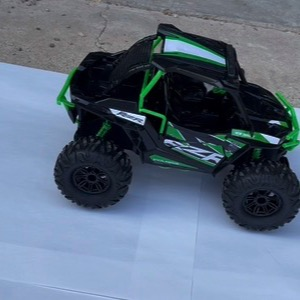polaris: (51, 22, 299, 240)
